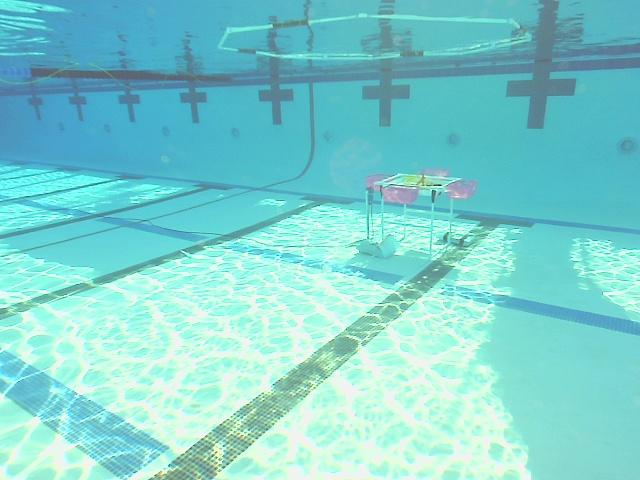table: (366, 166, 479, 257)
